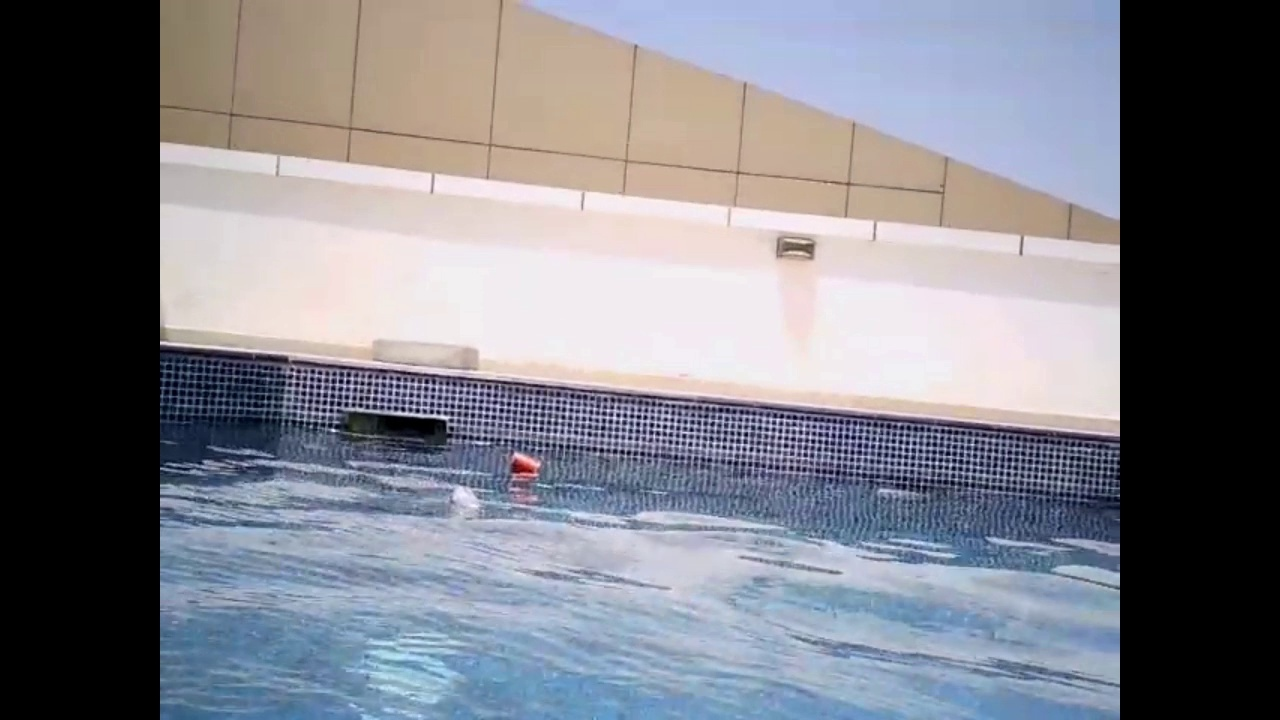debris: (443, 483, 487, 523), (506, 447, 546, 479)
